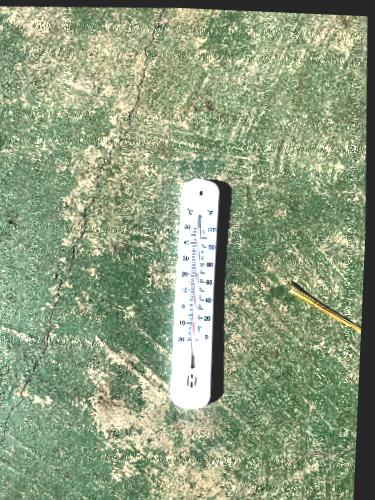thermo: (167, 184, 223, 408)
